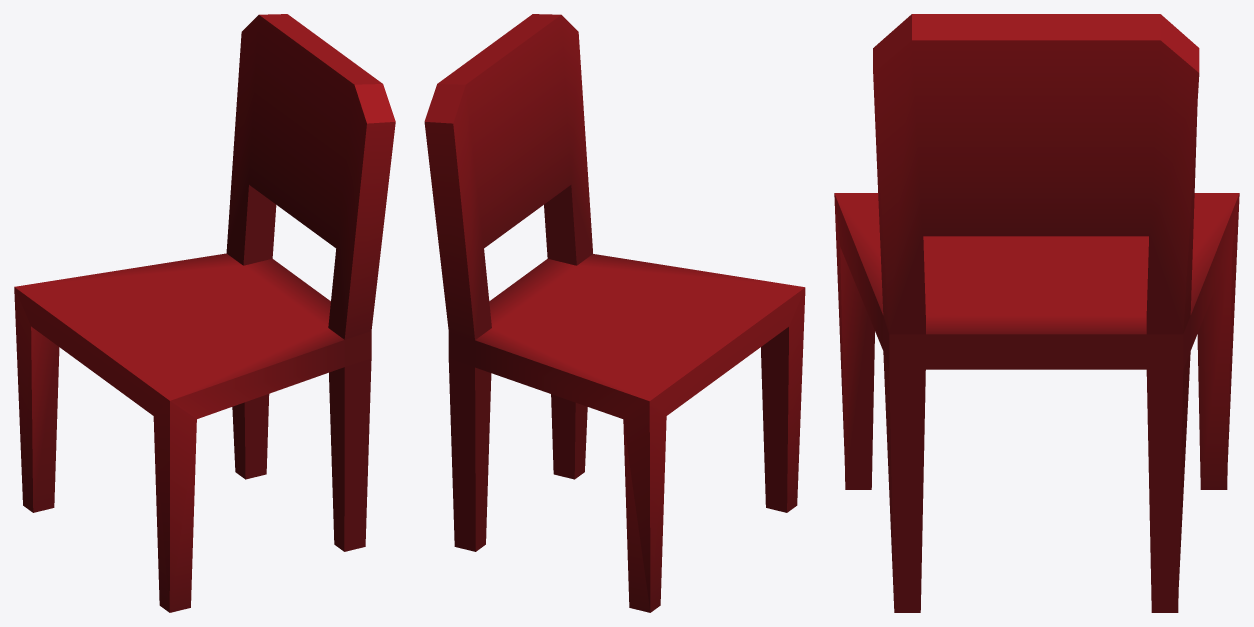
The model's file is Chair.fbx.
3 views of the same model, side by side, from view 1: azimuth 30°, elevation 25°; view 2: azimuth 150°, elevation 25°; view 3: azimuth 270°, elevation 25° (orthographic). The views are drawn at different scales.
Parts seen in each view (by area): view 1: Chair.007; view 2: Chair.007; view 3: Chair.007.
Boxes of the visible parts, x1,y1,x2,y2 form: Chair.007: [14, 14, 395, 612]; Chair.007: [424, 14, 805, 612]; Chair.007: [834, 14, 1239, 612].
Bounding box in the file's own units: 56.76 × 63.03 × 102.
